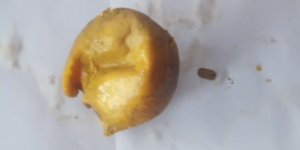BAD: (64, 9, 178, 130)
